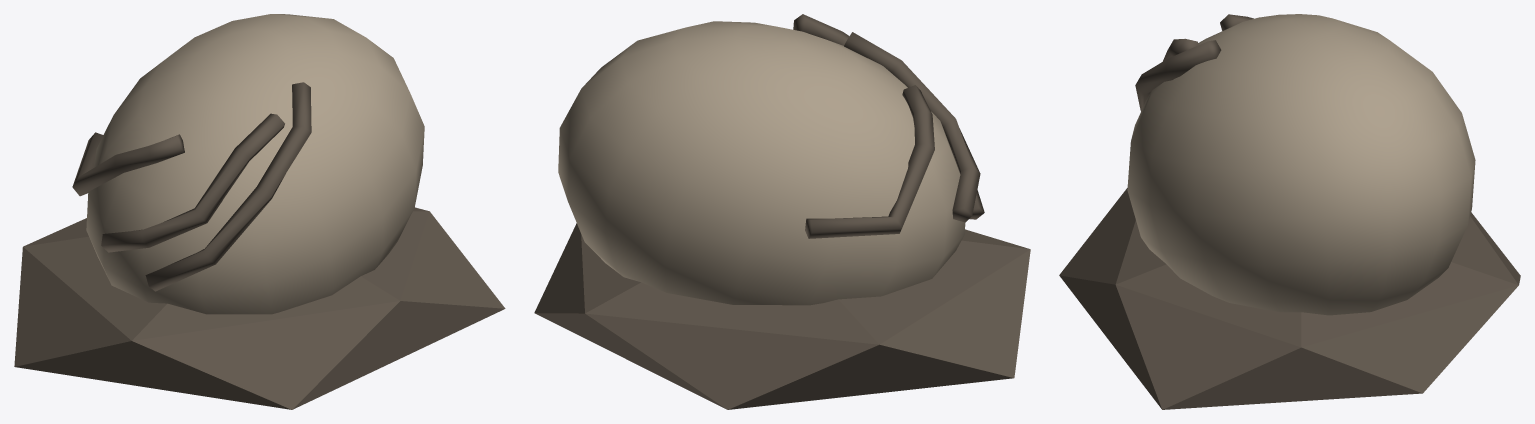
The model's file is fossil-ovo.glb.
3 renders of one model, left to right at view 1: azimuth 30°, elevation 25°; view 2: azimuth 150°, elevation 25°; view 3: azimuth 270°, elevation 25°, orthographic. The views are drawn at different scales.
Visible parts, largest first — view 1: fossil-ovo; view 2: fossil-ovo; view 3: fossil-ovo.
Part boxes in pixels (x1,y1,x2,y2): fossil-ovo: (14, 14, 505, 409); fossil-ovo: (534, 14, 1030, 409); fossil-ovo: (1059, 14, 1520, 409).
Size of the model in its own units: 0.3317 by 0.2224 by 0.2894.
